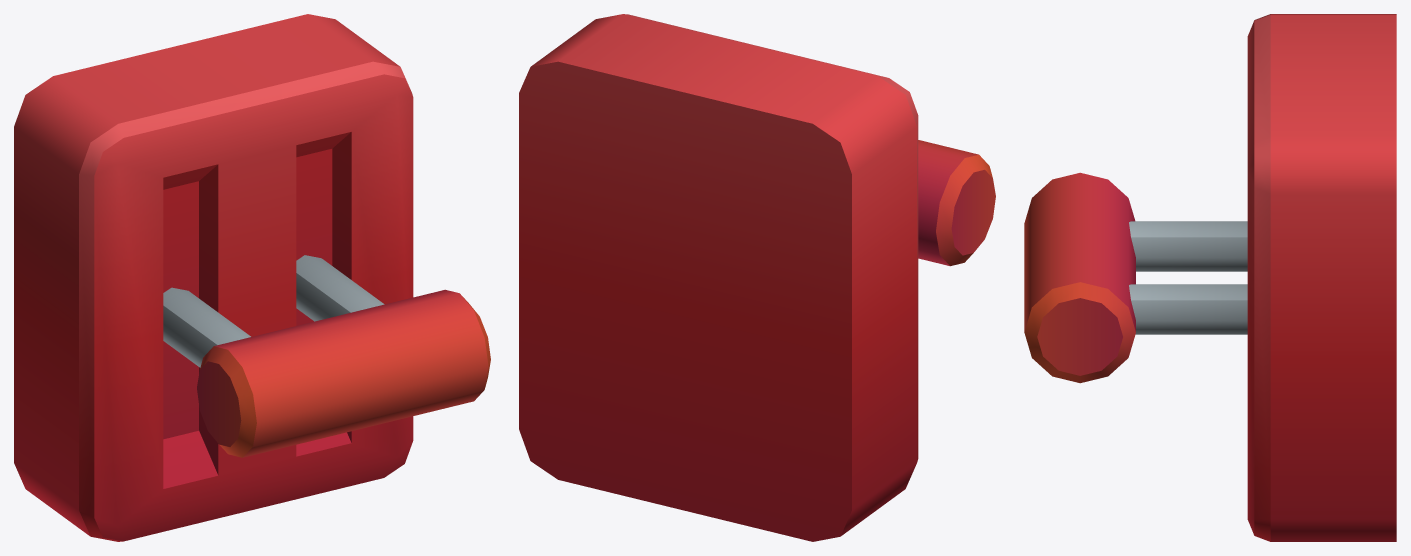
The model's file is lever_wall_base_B_red.glb.
3 views of the same model, side by side, from view 1: azimuth 30°, elevation 25°; view 2: azimuth 150°, elevation 25°; view 3: azimuth 270°, elevation 25° (orthographic). The views are drawn at different scales.
Visible parts, largest first — view 1: lever_wall_base_B_red, lever_wall_B_red; view 2: lever_wall_base_B_red, lever_wall_B_red; view 3: lever_wall_base_B_red, lever_wall_B_red.
Part boxes in pixels (x1,y1,x2,y2): lever_wall_base_B_red: [14, 14, 413, 541]; lever_wall_B_red: [163, 255, 490, 457]; lever_wall_base_B_red: [519, 14, 918, 541]; lever_wall_B_red: [918, 140, 995, 266]; lever_wall_base_B_red: [1247, 14, 1396, 541]; lever_wall_B_red: [1024, 172, 1247, 383].
Bounding box in the file's own units: 1 × 1.2 × 1.
Materials: 1 (1 with a texture image).
